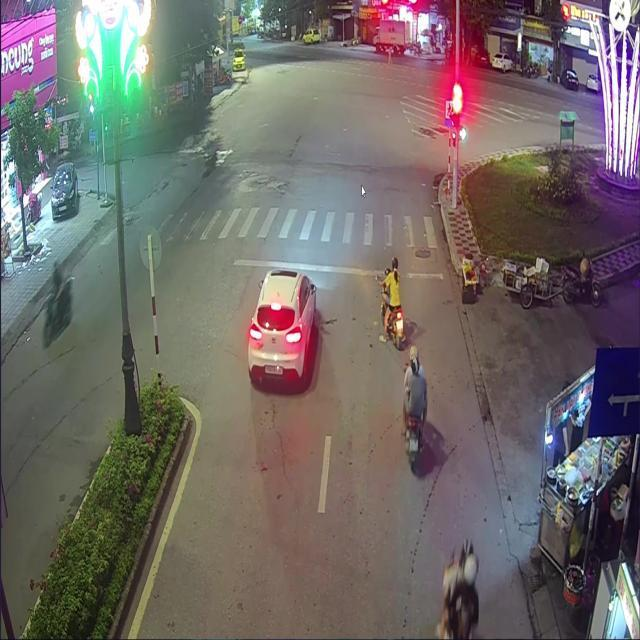car: (246, 269, 315, 383)
motobike: (435, 540, 478, 638), (378, 291, 404, 347), (404, 417, 423, 471)
red_light: (452, 97, 459, 127)
stop_line: (231, 258, 442, 280)
